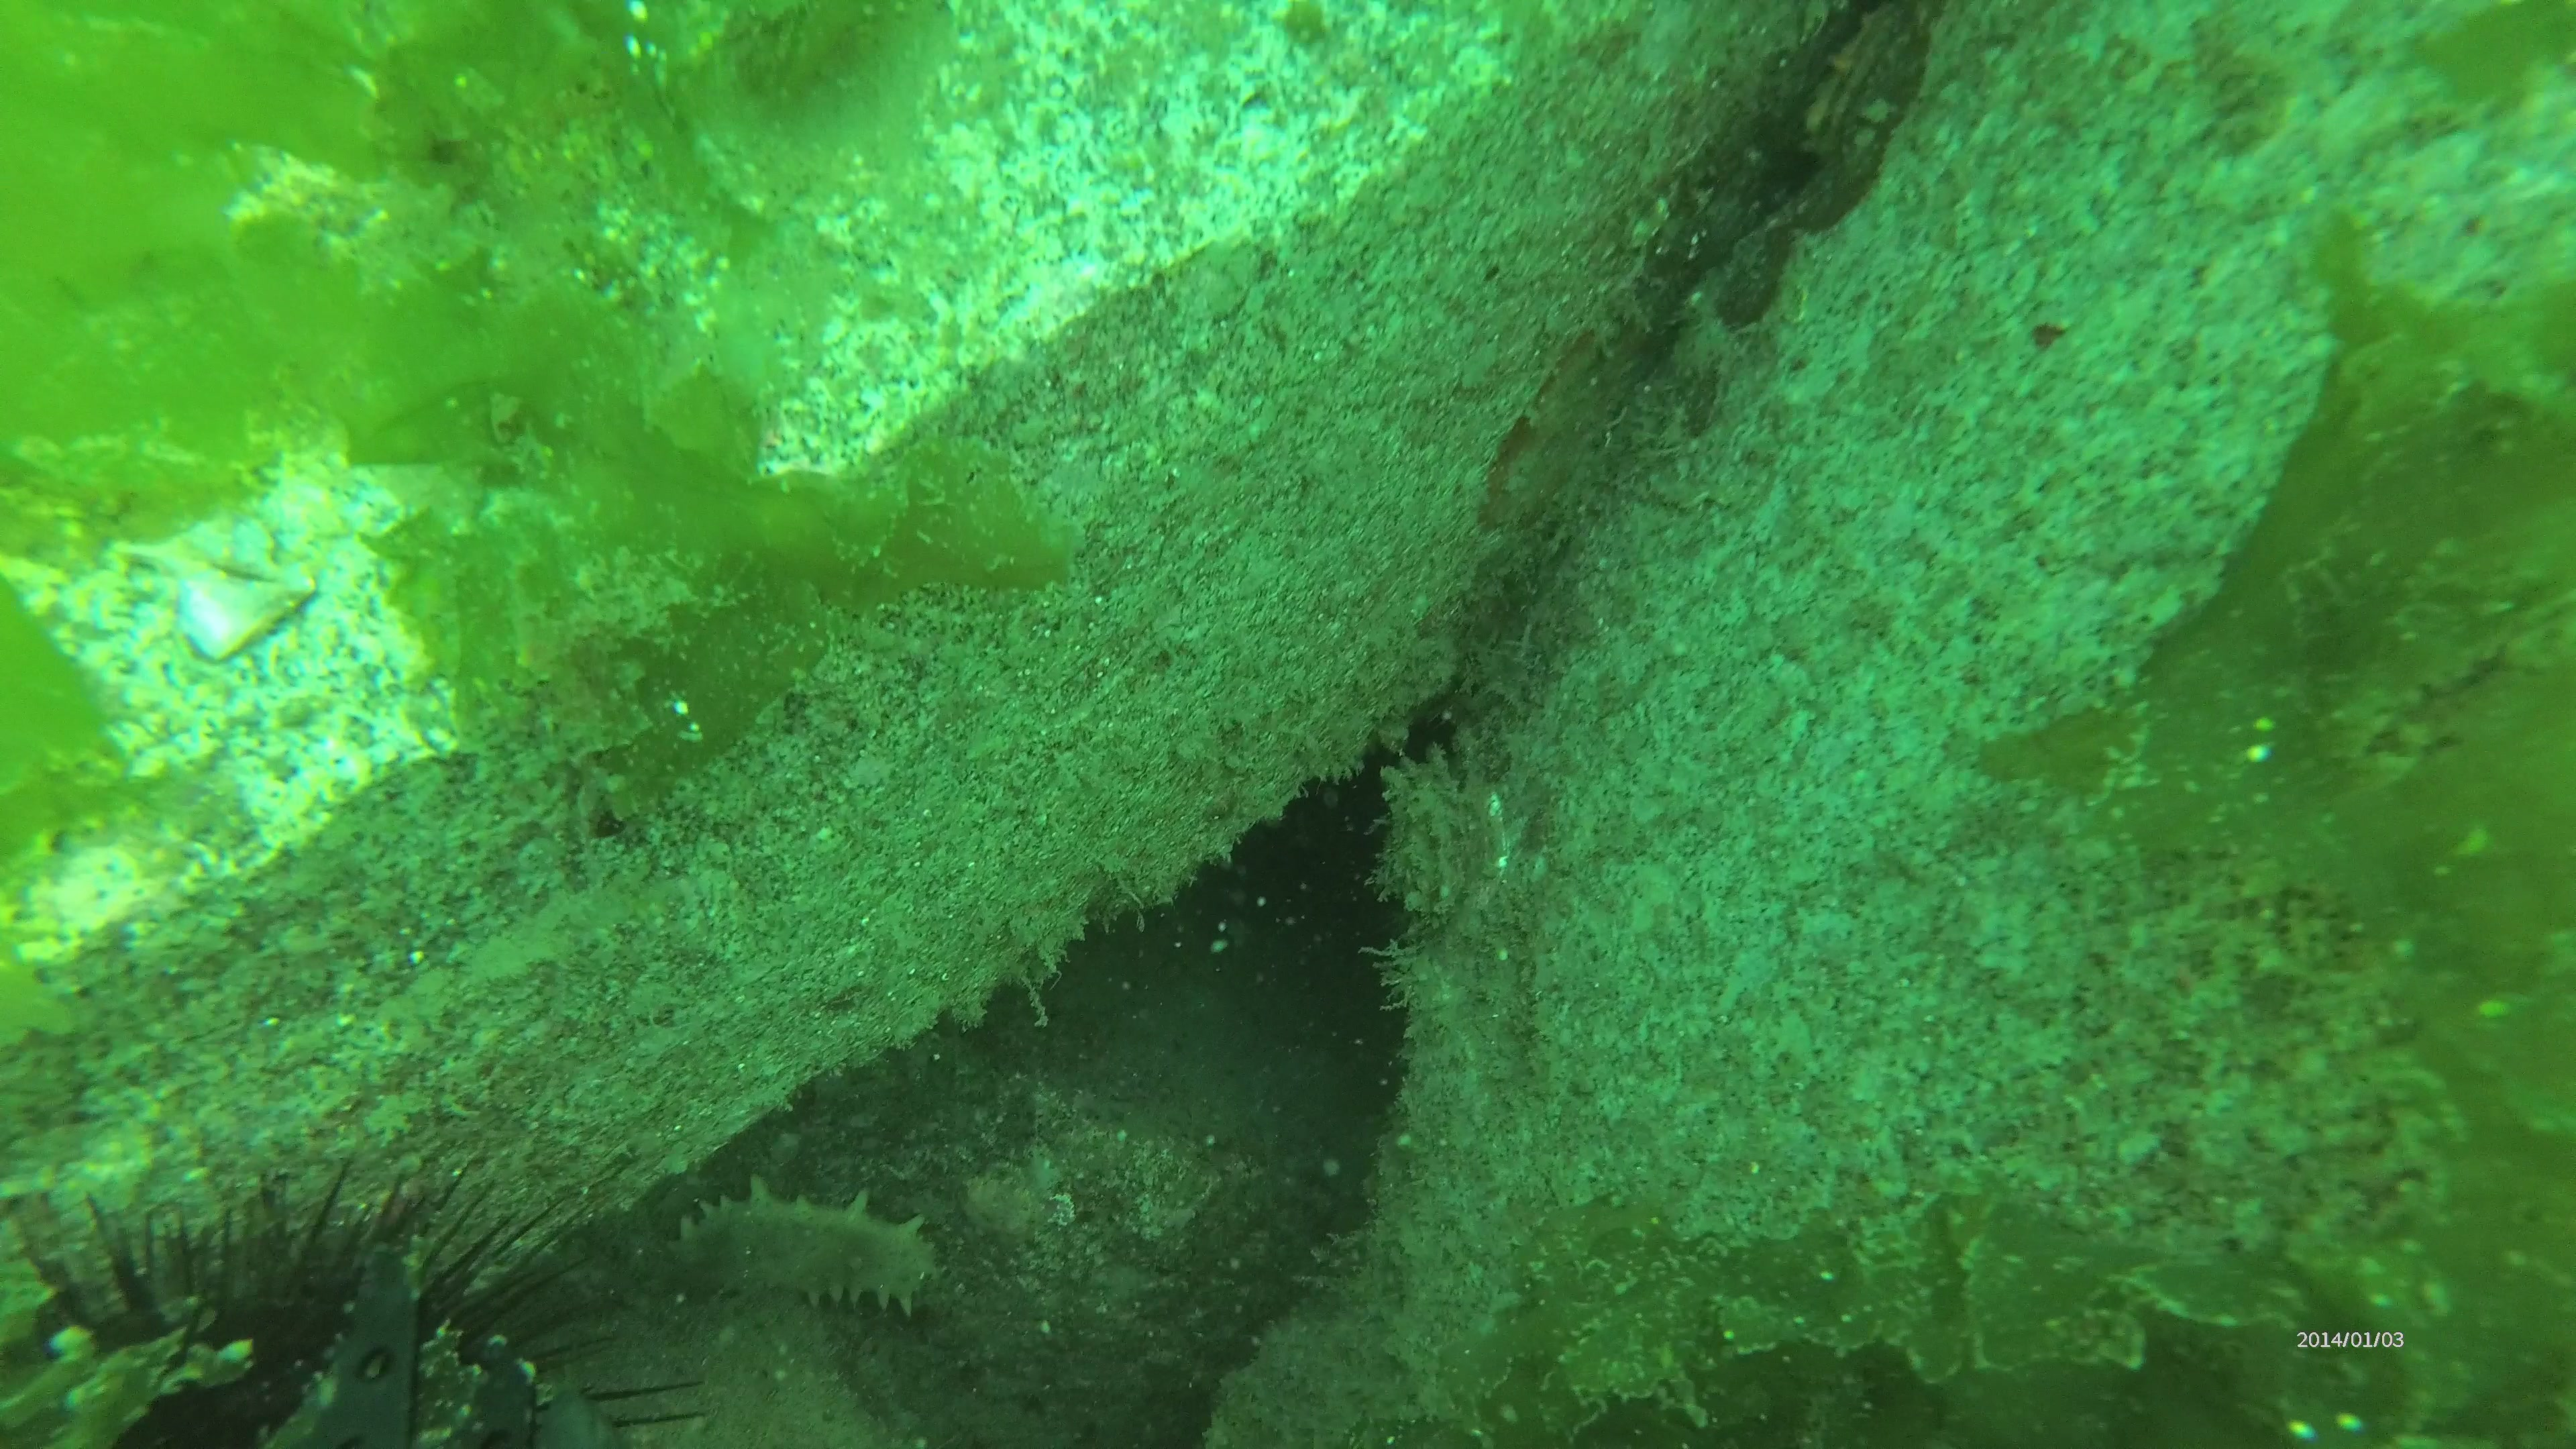echinus: (9, 1146, 702, 1449)
holothurian: (669, 1175, 941, 1318)
